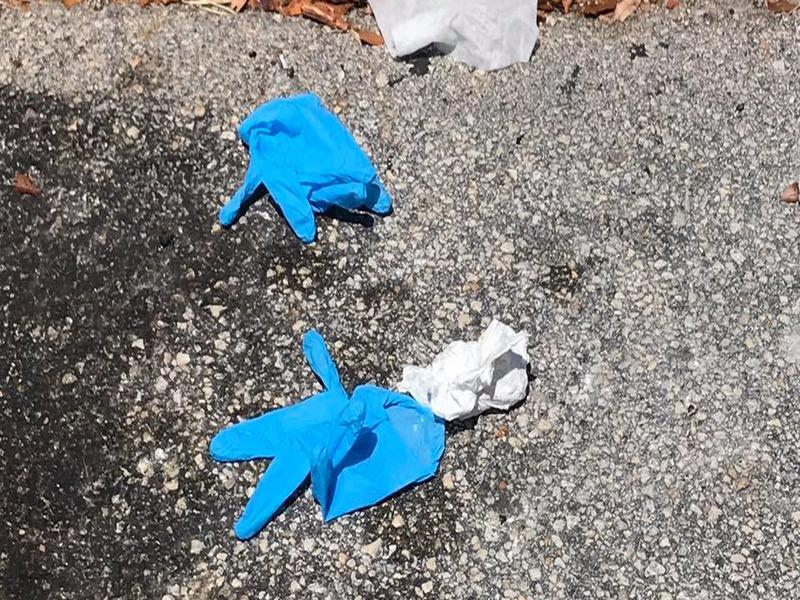gloves: (197, 325, 447, 543), (208, 90, 409, 245), (396, 317, 540, 426), (359, 1, 547, 72)
